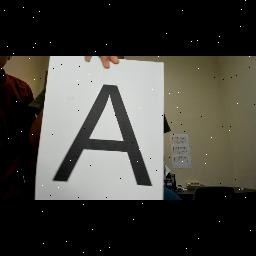a: (48, 78, 158, 190)
